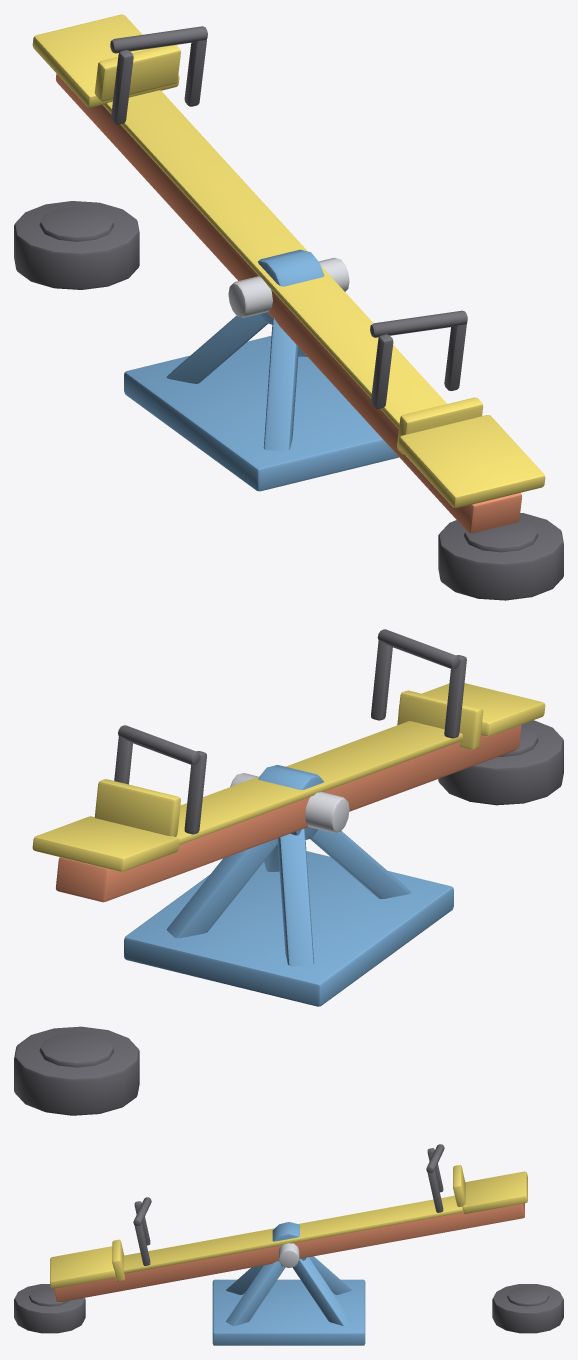
Rendered from th16_wippe.glb.
The picture shows the model from 3 angles, top to bottom: view 1: azimuth 30°, elevation 25°; view 2: azimuth 150°, elevation 25°; view 3: azimuth 270°, elevation 25°; orthographic projection. The views are drawn at different scales.
Visible parts, largest first — view 1: Cube.004, Cube.006, Cube.005, Cube.007, Cylinder.006, Cylinder.003, Cube.011, Cube, Cube.012, Cube.002, Cylinder.007, Cylinder (+9 smaller); view 2: Cube.004, Cube.005, Cube.006, Cylinder.006, Cylinder.003, Cube.011, Cube.003, Cube.002, Cube.012, Cube.007, Cube, Cube.008 (+9 smaller); view 3: Cube.004, Cube.005, Cube.006, Cylinder.006, Cylinder.003, Cube.007, Cube.011, Cube.003, Cube.001, Cylinder.007, Cube.002, Cylinder.004 (+7 smaller).
Part boxes in pixels (x1,y1,x2,y2): Cube.004: [124, 335, 399, 491]; Cube.006: [103, 90, 446, 428]; Cube.005: [56, 73, 521, 533]; Cube.007: [398, 415, 545, 508]; Cylinder.006: [14, 201, 139, 289]; Cylinder.003: [438, 513, 563, 600]; Cube.011: [32, 14, 179, 107]; Cube: [263, 317, 298, 450]; Cube.012: [94, 45, 180, 101]; Cube.002: [166, 314, 267, 383]; Cylinder.007: [39, 207, 113, 241]; Cylinder: [228, 258, 349, 317]; Cube.004: [124, 851, 453, 1006]; Cube.005: [56, 724, 521, 902]; Cube.006: [176, 721, 462, 844]; Cylinder.006: [14, 1026, 139, 1115]; Cylinder.003: [438, 720, 563, 805]; Cube.011: [32, 816, 179, 871]; Cube.003: [166, 838, 277, 938]; Cube.002: [277, 828, 314, 966]; Cube.012: [94, 779, 180, 836]; Cube.007: [398, 683, 545, 736]; Cube: [310, 829, 411, 898]; Cube.008: [397, 690, 483, 749]; Cube.004: [212, 1279, 365, 1345]; Cube.005: [53, 1203, 524, 1301]; Cube.006: [123, 1195, 463, 1273]; Cylinder.006: [492, 1284, 563, 1333]; Cylinder.003: [14, 1284, 85, 1333]; Cube.007: [50, 1246, 115, 1288]; Cube.011: [462, 1171, 527, 1213]; Cube.003: [292, 1257, 351, 1325]; Cube.001: [226, 1261, 285, 1325]; Cylinder.007: [507, 1287, 548, 1306]; Cube.002: [309, 1256, 351, 1294]; Cylinder.004: [29, 1287, 68, 1306].
Size of the model in its own units: 0.86 by 1.24 by 3.68.
